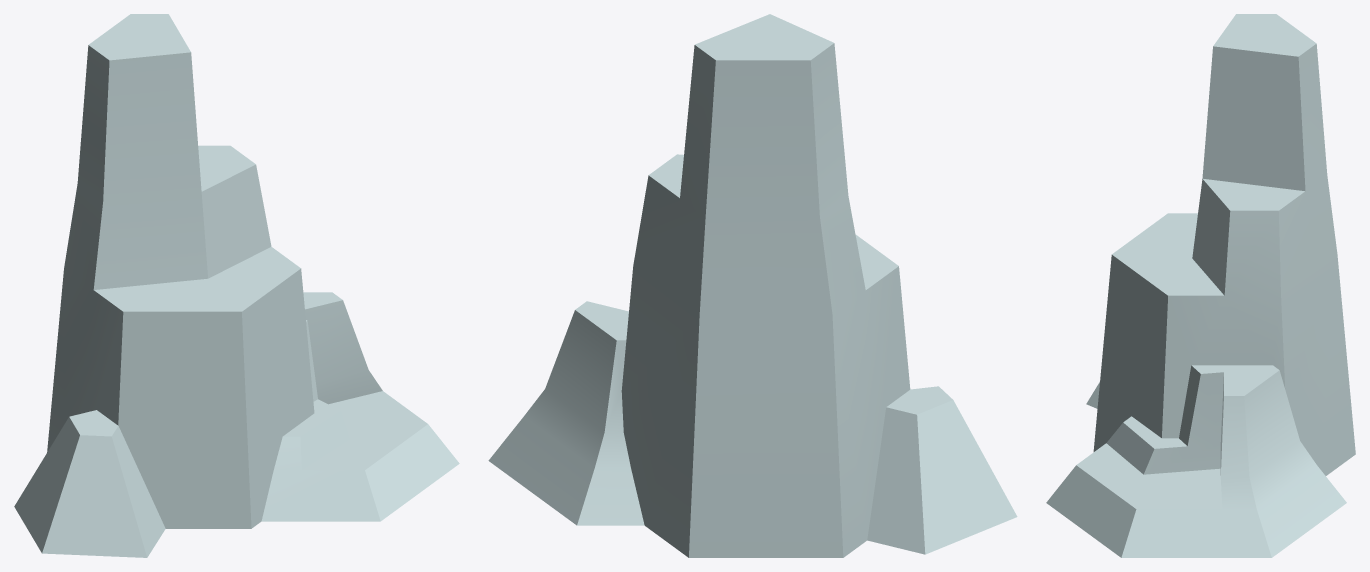
The model's file is stone_tall1.glb.
3 views of the same model, side by side, from view 1: azimuth 30°, elevation 25°; view 2: azimuth 150°, elevation 25°; view 3: azimuth 270°, elevation 25° (orthographic). The views are drawn at different scales.
Visible parts, largest first — view 1: stone_tall1; view 2: stone_tall1; view 3: stone_tall1.
Boxes of the visible parts, box(x1,y1,x2,y2) form: stone_tall1: box(14, 14, 459, 557); stone_tall1: box(488, 14, 1017, 557); stone_tall1: box(1046, 14, 1355, 557).
Bounding box in the file's own units: 0.9831 × 0.9959 × 0.6832.
